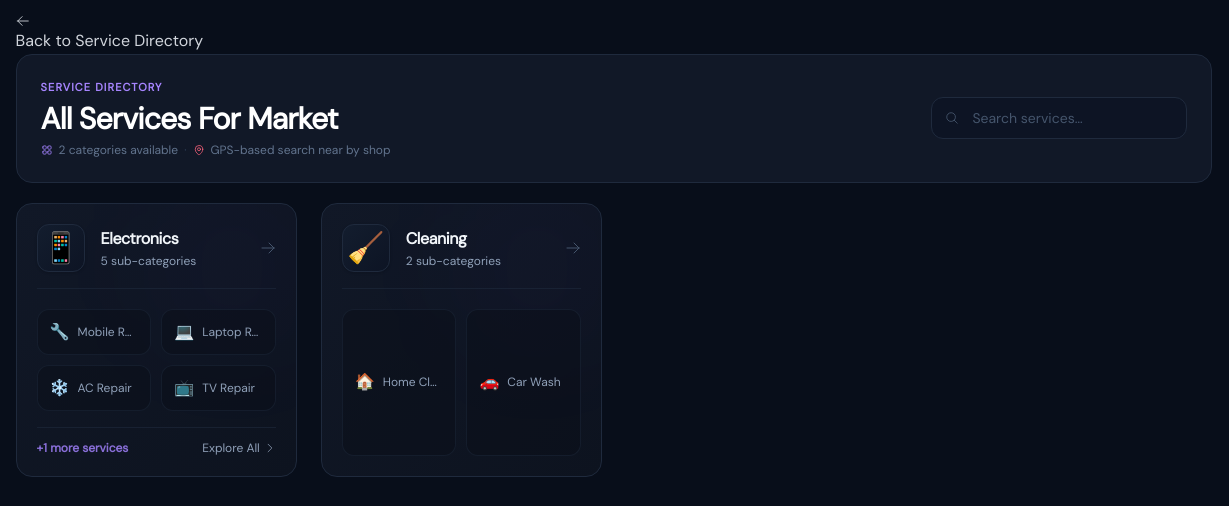
it: AllServices Page › clears search input via the "Clear Search" button in empty state
Type "NonExistent" into the field with placeholder "Search services…".
click(1059, 118); type("NonExistent")  # box [931, 97, 1187, 139]
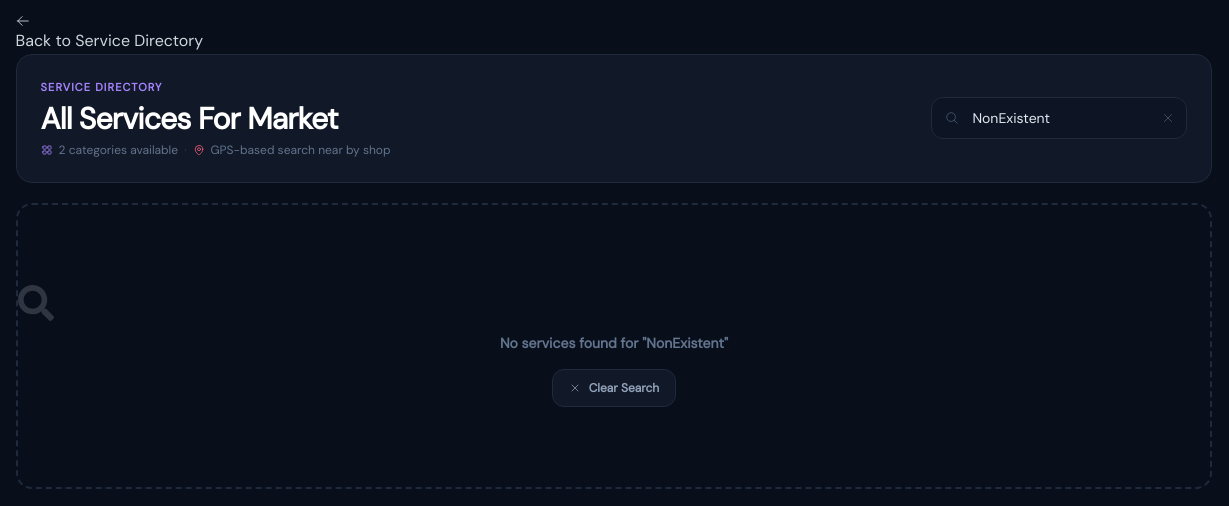
Click the button "Clear Search".
click(614, 388)  # box [552, 369, 676, 407]
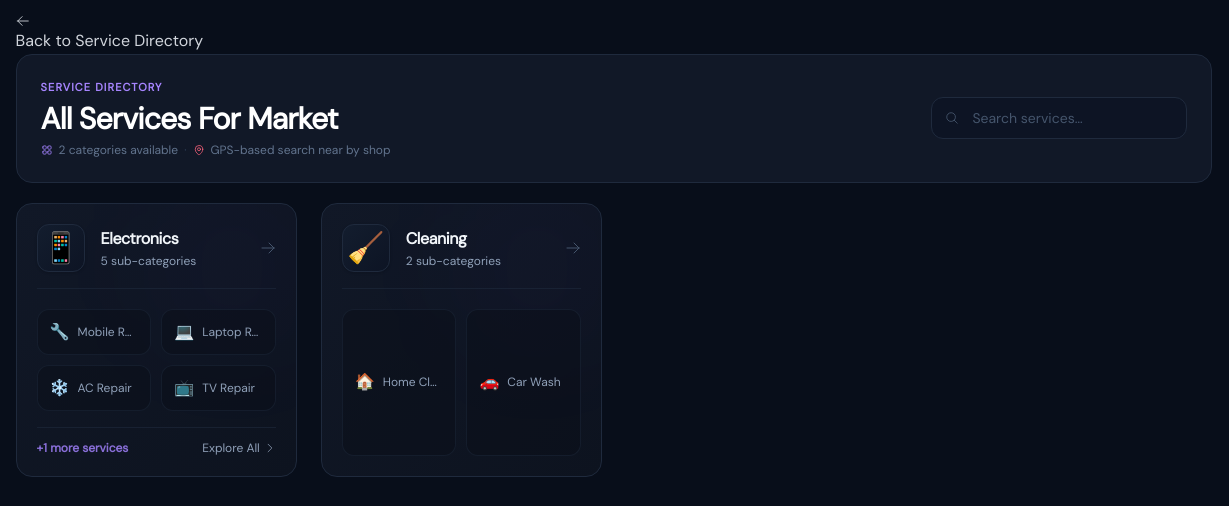
expect the field with placeholder "Search services…" is empty: met, box [931, 97, 1187, 139]
expect the heading "Electronics" is shown: met, box [101, 228, 178, 249]
